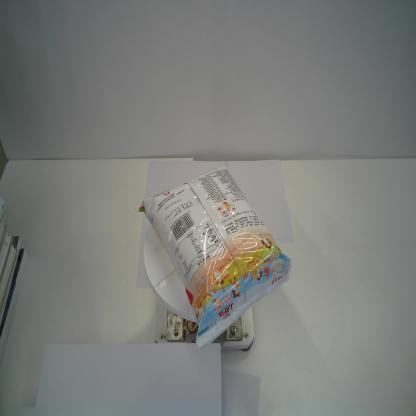Puffed Food: (135, 161, 293, 348)
